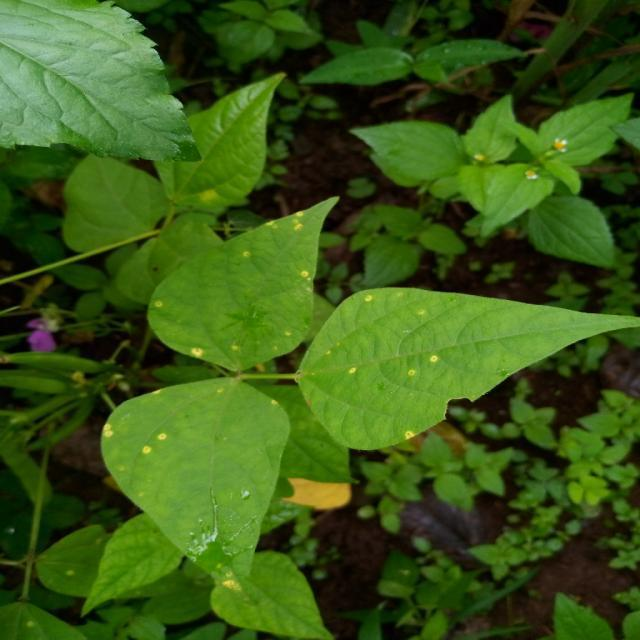sehat: (342, 310, 479, 413), (171, 266, 280, 346)
